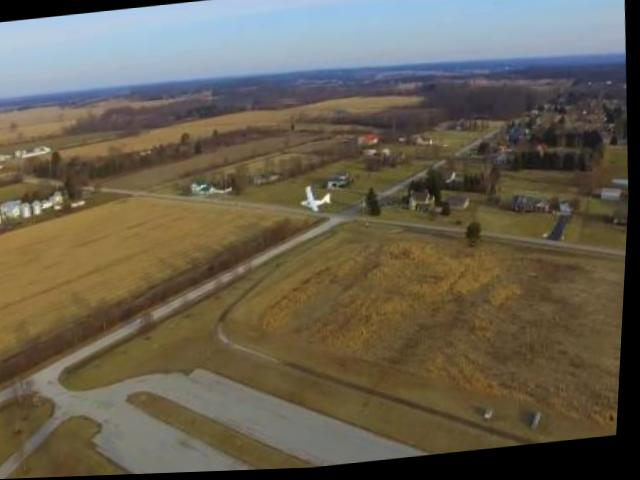uav: (290, 179, 343, 230)
